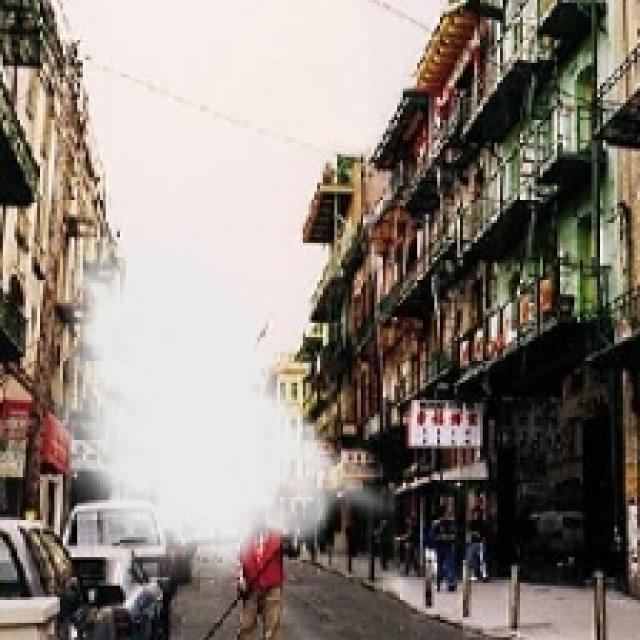smoke: (43, 203, 403, 594)
